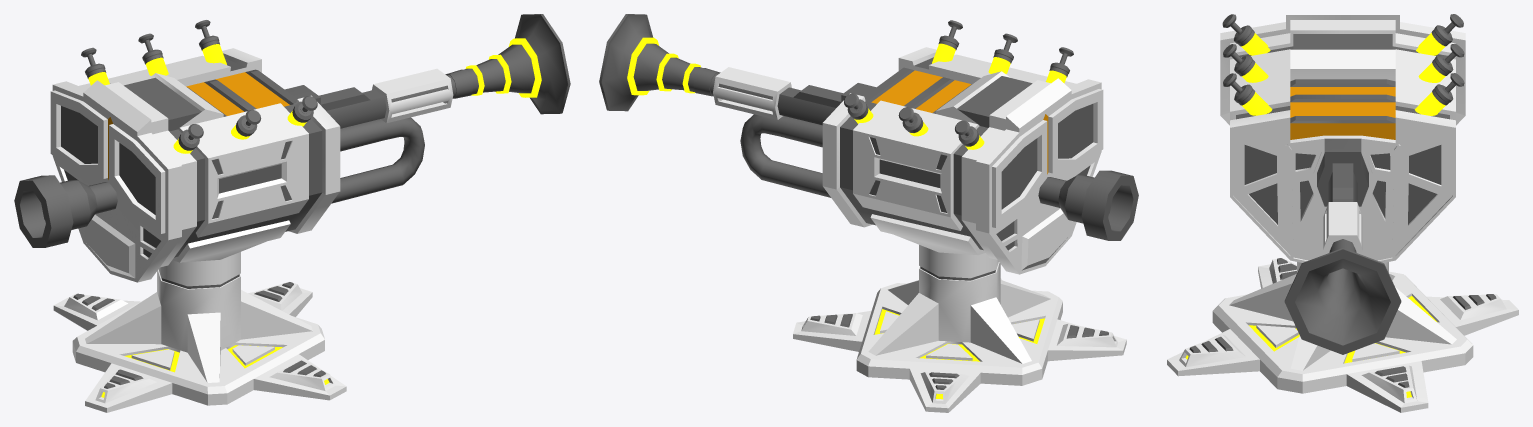
The model's file is Trumpet Weapon V2.fbx.
3 views of the same model, side by side, from view 1: azimuth 30°, elevation 25°; view 2: azimuth 150°, elevation 25°; view 3: azimuth 270°, elevation 25° (orthographic). The views are drawn at different scales.
Parts seen in each view (by area): view 1: Trumpet low_poly; view 2: Trumpet low_poly; view 3: Trumpet low_poly.
Boxes of the visible parts, left/top/right/bottom form: Trumpet low_poly: left=14, top=14, right=570, bottom=412; Trumpet low_poly: left=599, top=14, right=1138, bottom=412; Trumpet low_poly: left=1167, top=14, right=1518, bottom=412.
Size of the model in its own units: 222 by 116 by 125.
